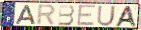A: (113, 5, 138, 27), (15, 4, 37, 25)
B: (57, 4, 76, 26)
E: (76, 4, 97, 27)
R: (35, 4, 57, 26)
U: (96, 5, 117, 27)
